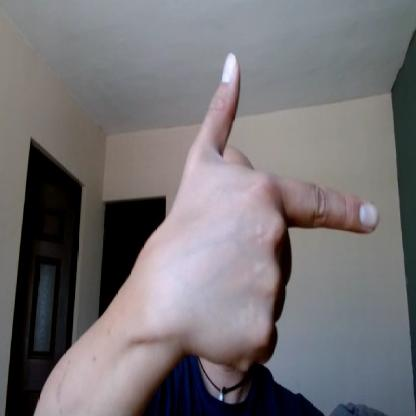G: (171, 53, 381, 369)
